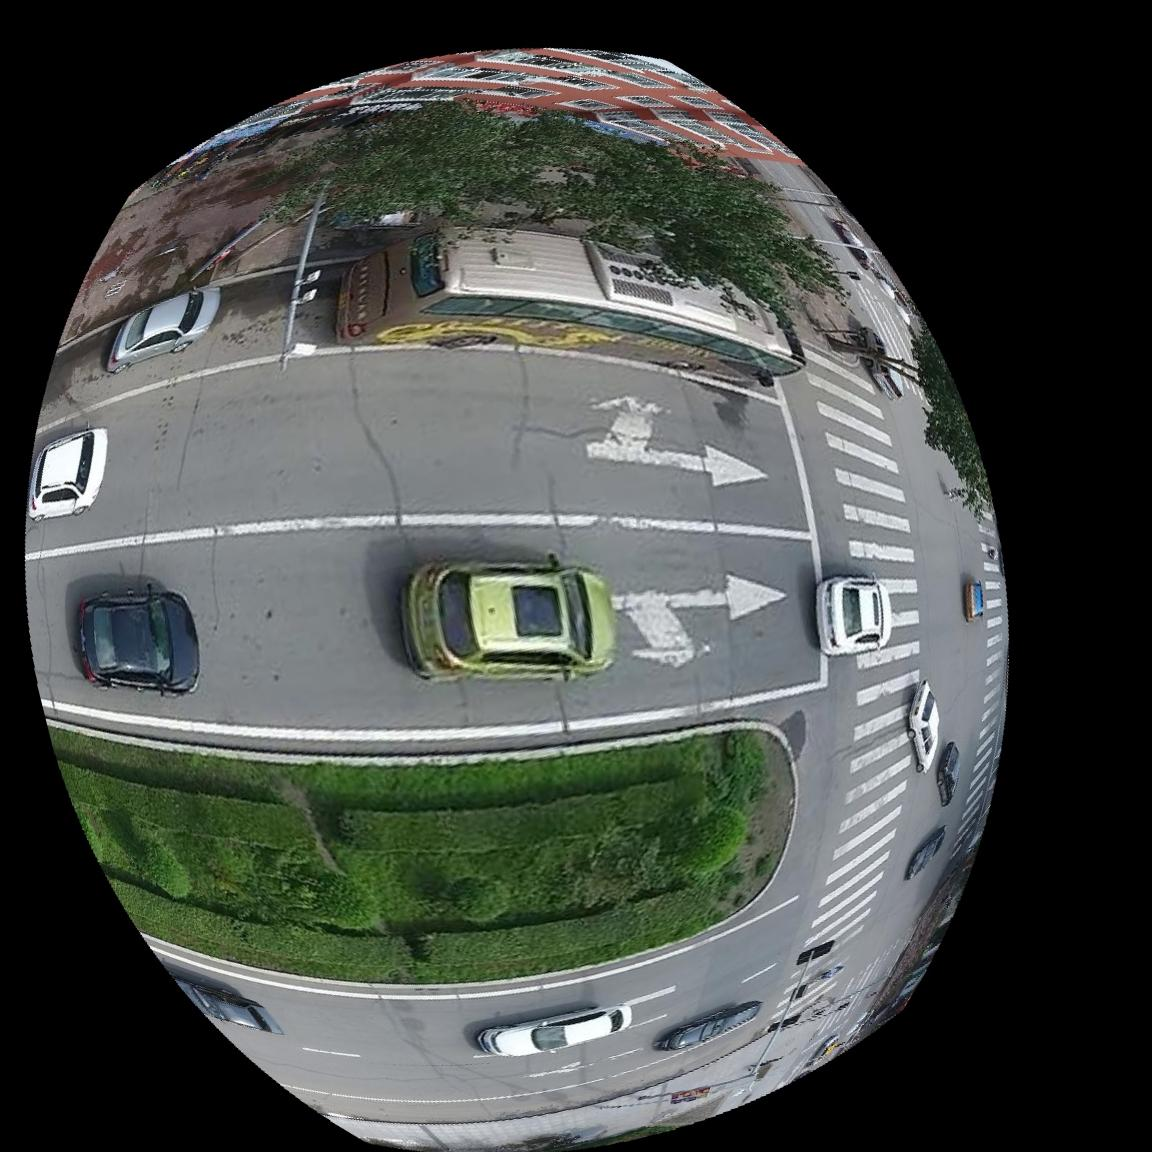cars: (335, 225, 806, 386), (400, 559, 615, 681), (76, 587, 196, 696), (104, 286, 218, 371), (477, 1005, 631, 1057), (24, 427, 103, 520), (815, 575, 892, 657), (174, 982, 282, 1035), (656, 1002, 761, 1053), (908, 680, 941, 772)
trees: (51, 729, 792, 985)
